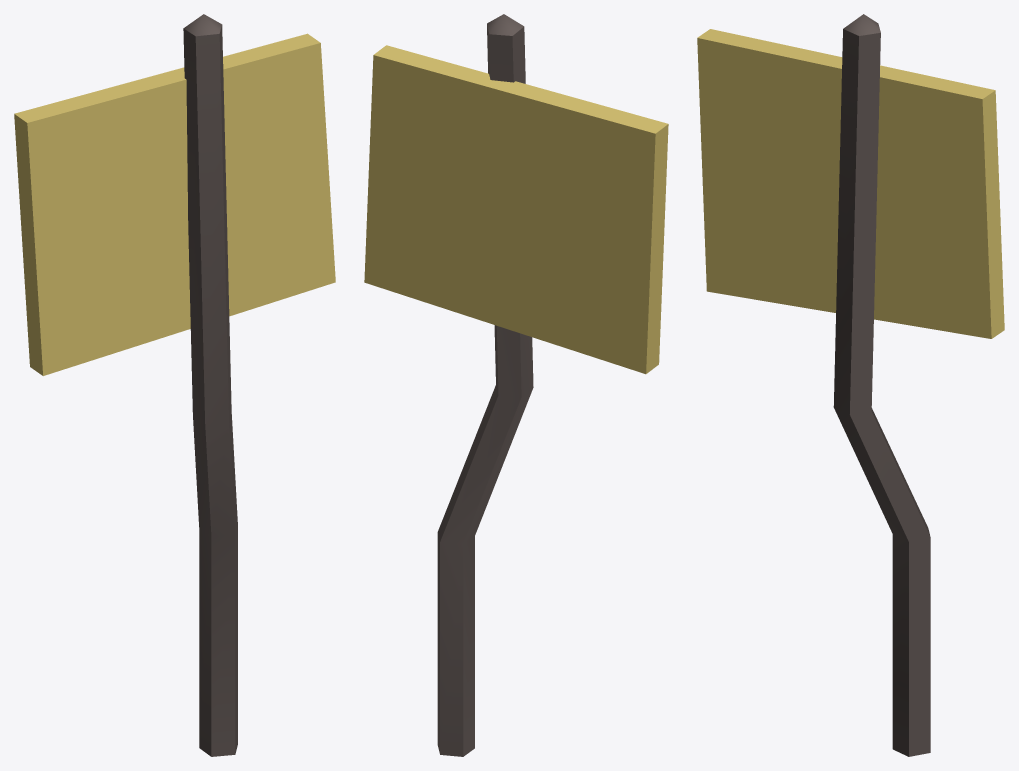
Rendered from SmallSign01.fbx.
3 views of the same model, side by side, from view 1: azimuth 30°, elevation 25°; view 2: azimuth 150°, elevation 25°; view 3: azimuth 330°, elevation 25° (orthographic). The views are drawn at different scales.
Visible parts, largest first — view 1: SmallSign01; view 2: SmallSign01; view 3: SmallSign01.
Boxes of the visible parts, x1,y1,x2,y2 form: SmallSign01: (14,14,335,756); SmallSign01: (364,14,668,756); SmallSign01: (697,14,1004,756).
Bounding box in the file's own units: 165 × 392 × 44.01.
